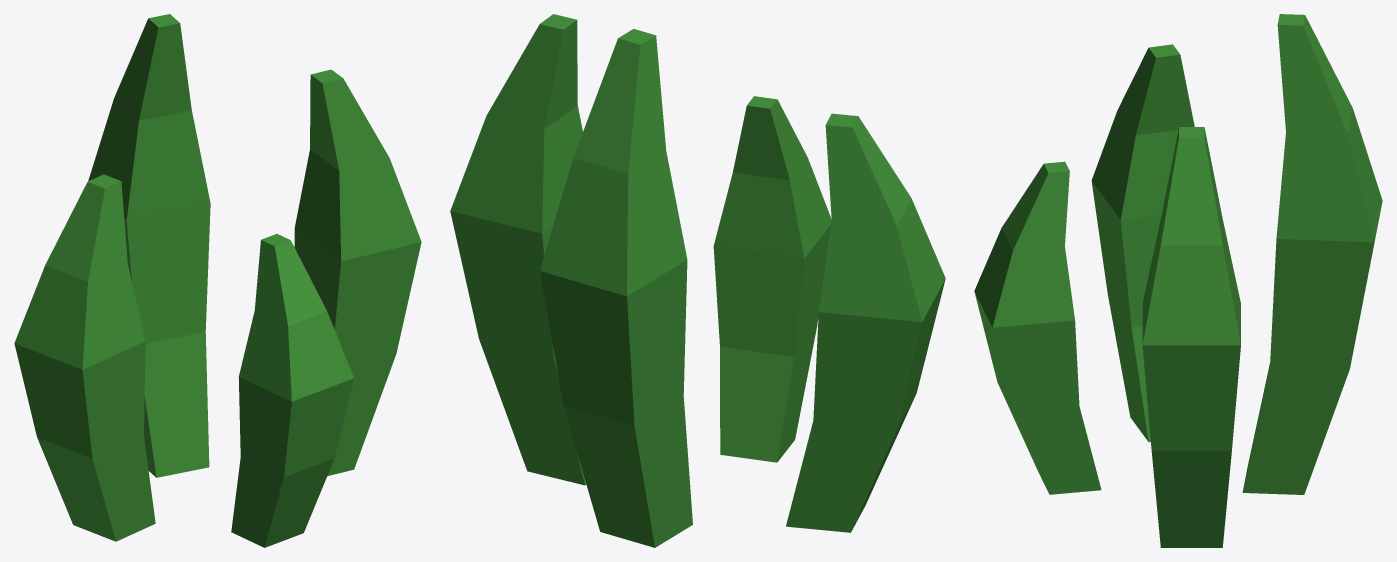
File: LobbyPlant.fbx
The picture shows the model from 3 angles, left to right: view 1: azimuth 30°, elevation 25°; view 2: azimuth 150°, elevation 25°; view 3: azimuth 270°, elevation 25°; orthographic projection. The views are drawn at different scales.
Parts seen in each view (by area): view 1: Fern1.001; view 2: Fern1.001; view 3: Fern1.001.
Part boxes in pixels (<box>): Fern1.001: <box>14,14,421,547</box>; Fern1.001: <box>450,14,945,547</box>; Fern1.001: <box>974,14,1382,547</box>.
Bounding box in the file's own units: 54.19 × 58.26 × 46.69.
